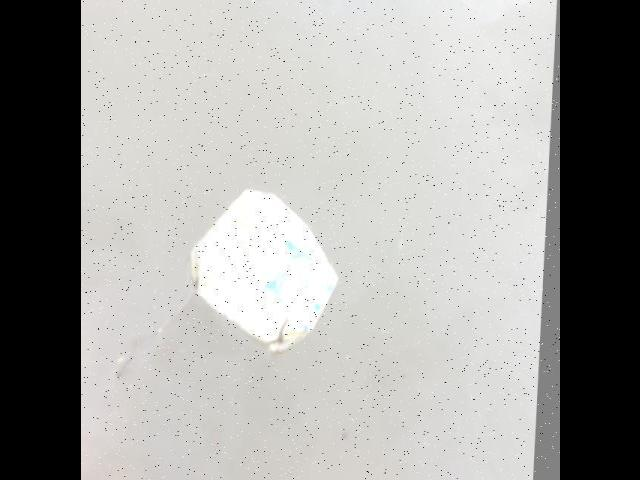Waste: (184, 176, 342, 360)
